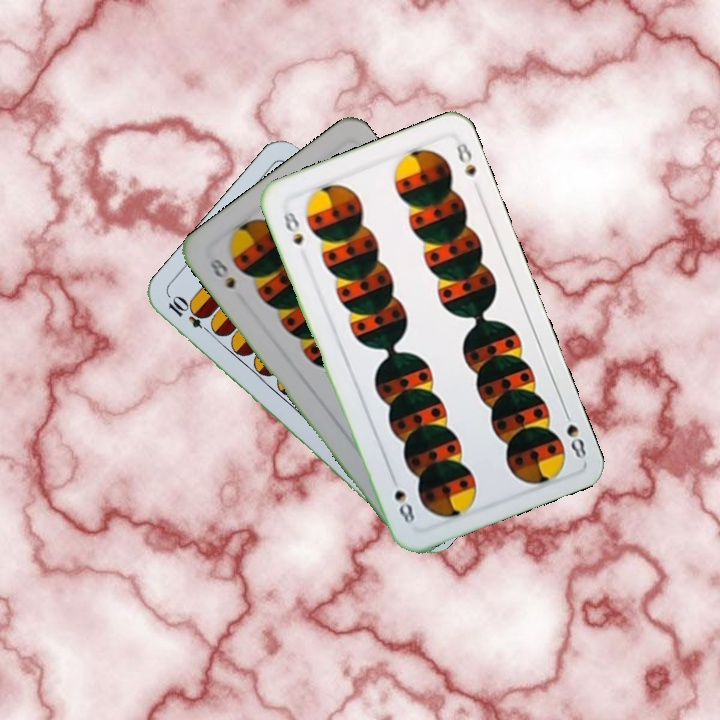E10: (164, 293, 216, 338)
S8: (559, 404, 589, 462), (203, 253, 238, 292), (278, 203, 306, 248)
